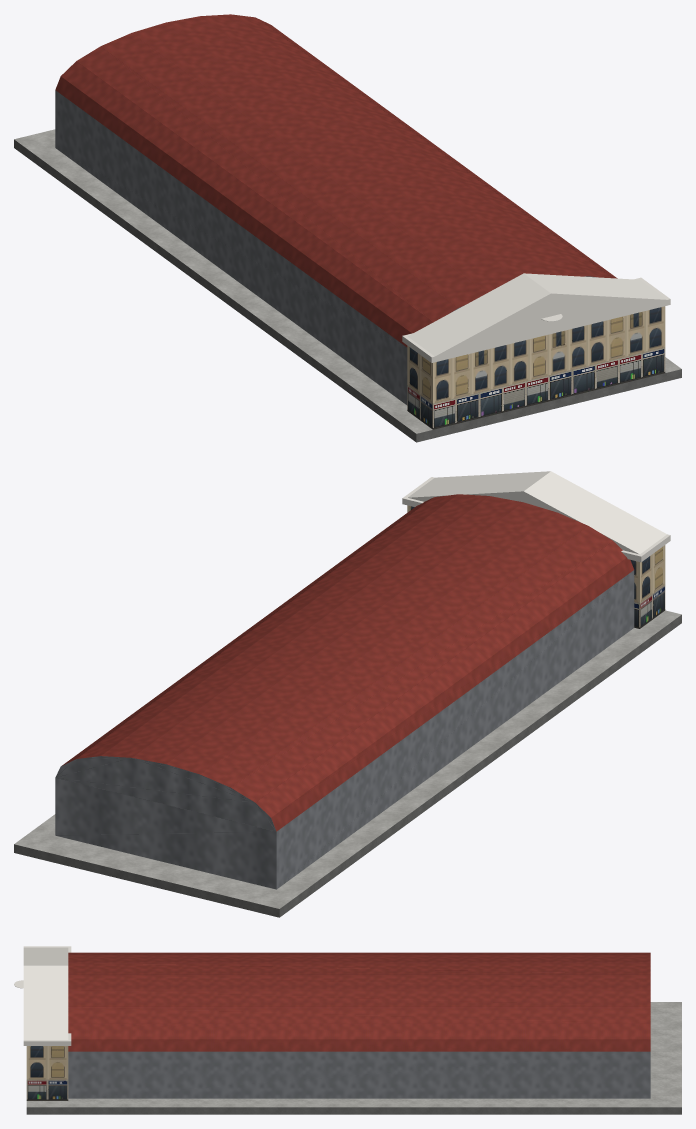
File: 088_pier_shed.glb
The picture shows the model from 3 angles, top to bottom: view 1: azimuth 30°, elevation 25°; view 2: azimuth 150°, elevation 25°; view 3: azimuth 270°, elevation 25°; orthographic projection. The views are drawn at different scales.
Parts seen in each view (by area): view 1: 088_pier_shed; view 2: 088_pier_shed; view 3: 088_pier_shed.
Part boxes in pixels (<box>): 088_pier_shed: <box>14,14,681,442</box>; 088_pier_shed: <box>14,471,681,917</box>; 088_pier_shed: <box>14,946,681,1114</box>.
Size of the model in its own units: 48 by 20.4 by 128.
8 materials, 7 textured.
